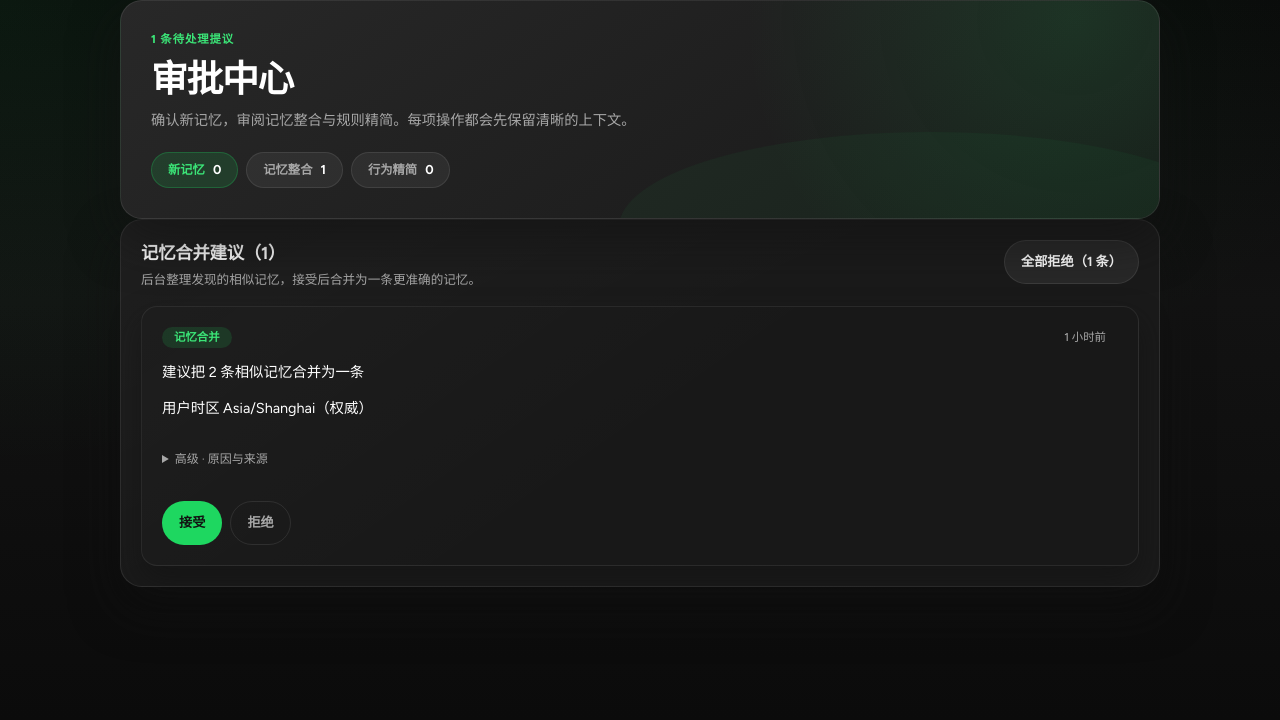
Scenario: ApprovalCenterPage › pending 回滚：卡片保留 + 可重试 toast
expect the text "建议把 2 条相似记忆合并为一条" is shown: met, box top-left (162, 363), bottom-right (364, 381)
Click the button "接受" at [192, 523], box top-left (162, 501), bottom-right (222, 545)
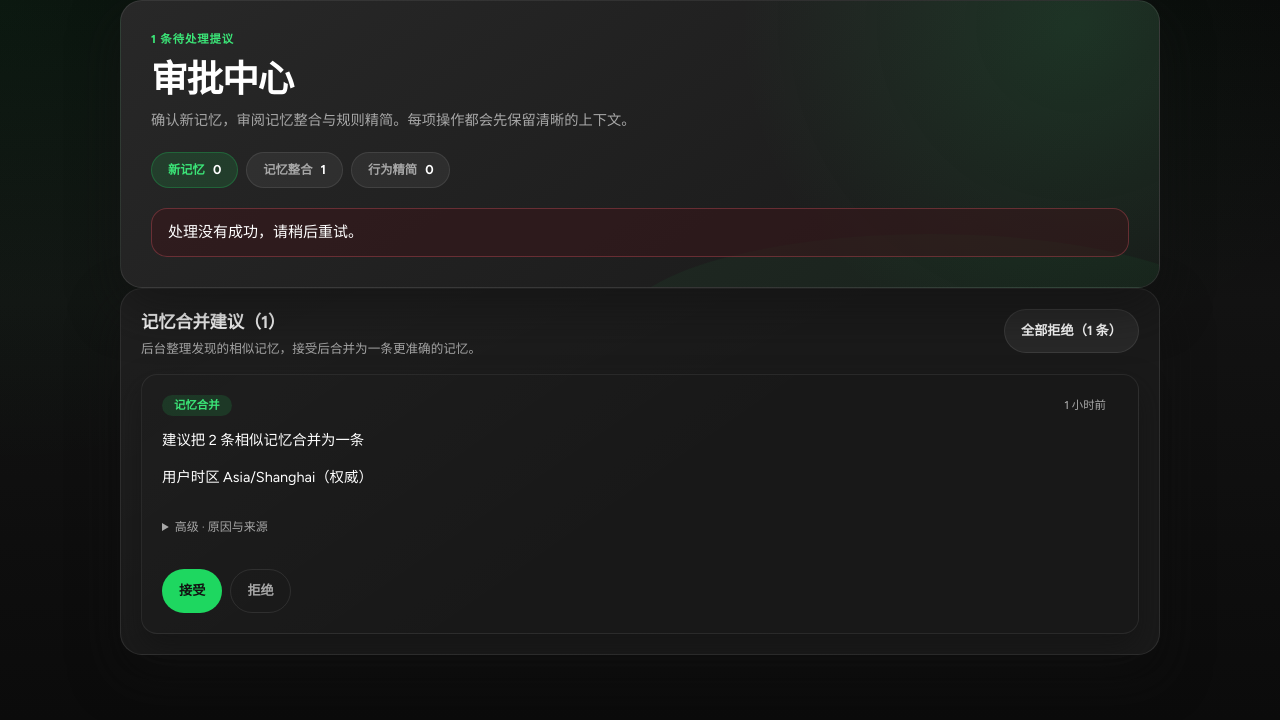
expect the text "建议把 2 条相似记忆合并为一条" is shown: met, box top-left (162, 431), bottom-right (364, 449)
expect the text "处理没有成功，请稍后重试。" is shown: met, box top-left (168, 221), bottom-right (363, 244)
